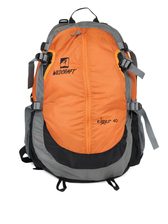bag: (19, 6, 160, 194)
